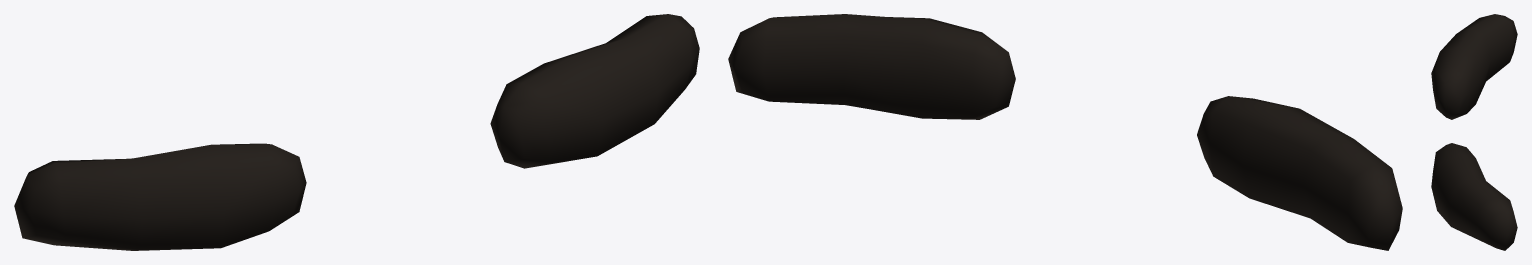
File: Eyebrows_01_01.fbx
The picture shows the model from 3 angles, left to right: view 1: azimuth 30°, elevation 25°; view 2: azimuth 150°, elevation 25°; view 3: azimuth 270°, elevation 25°; orthographic projection. The views are drawn at different scales.
Parts seen in each view (by area): view 1: Eyebrows_01_01; view 2: Eyebrows_01_01; view 3: Eyebrows_01_01.
Part boxes in pixels (x1,y1,x2,y2): Eyebrows_01_01: (14,14,699,250); Eyebrows_01_01: (728,14,1402,250); Eyebrows_01_01: (1431,14,1517,250).
Bounding box in the file's own units: 18.54 × 2.63 × 3.34.
